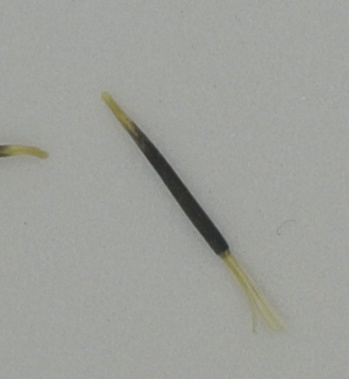เมล็ดดีเรียวยาว: (101, 87, 290, 335)
